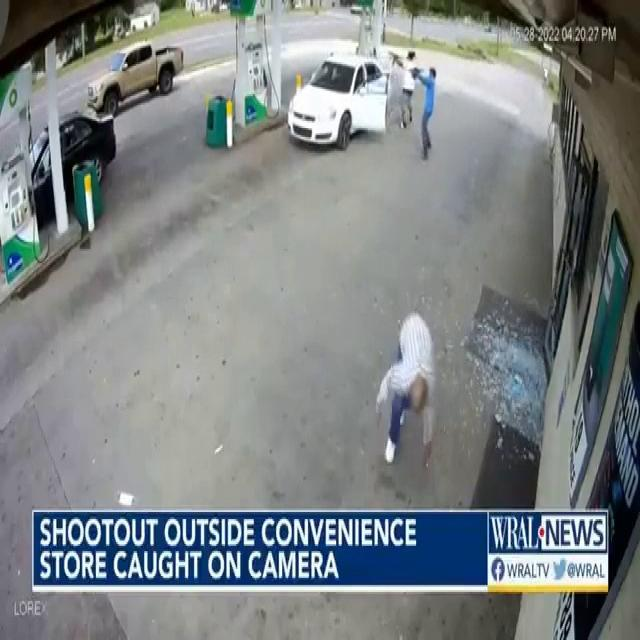penembakan: (389, 41, 416, 131)
